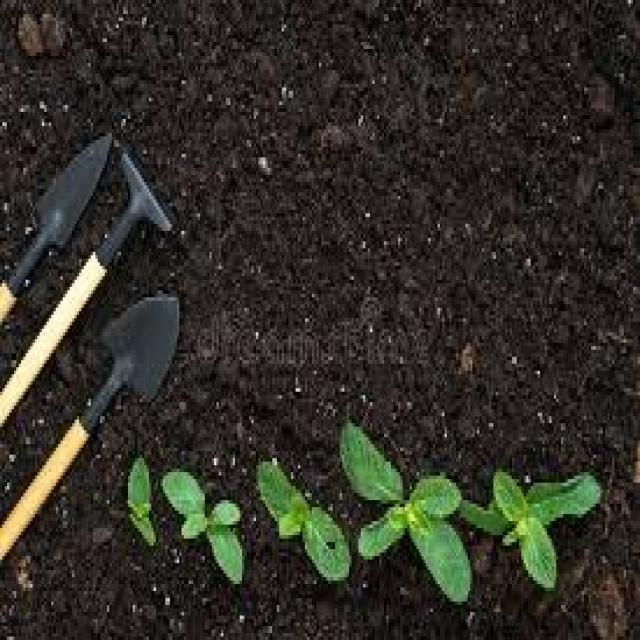Black Soil: (198, 35, 614, 420)
